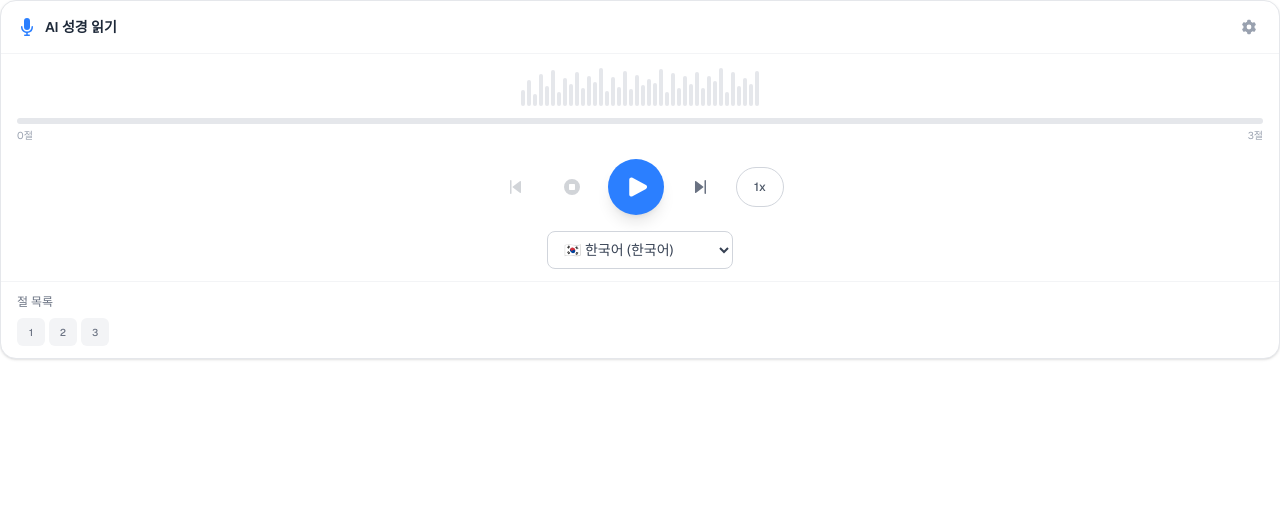
Scenario: EnhancedAudioPlayer › settings panel › opens settings when settings button is clicked
Click the button named "설정".
click(1249, 27)  # box x1=1235 y1=13 x2=1263 y2=41
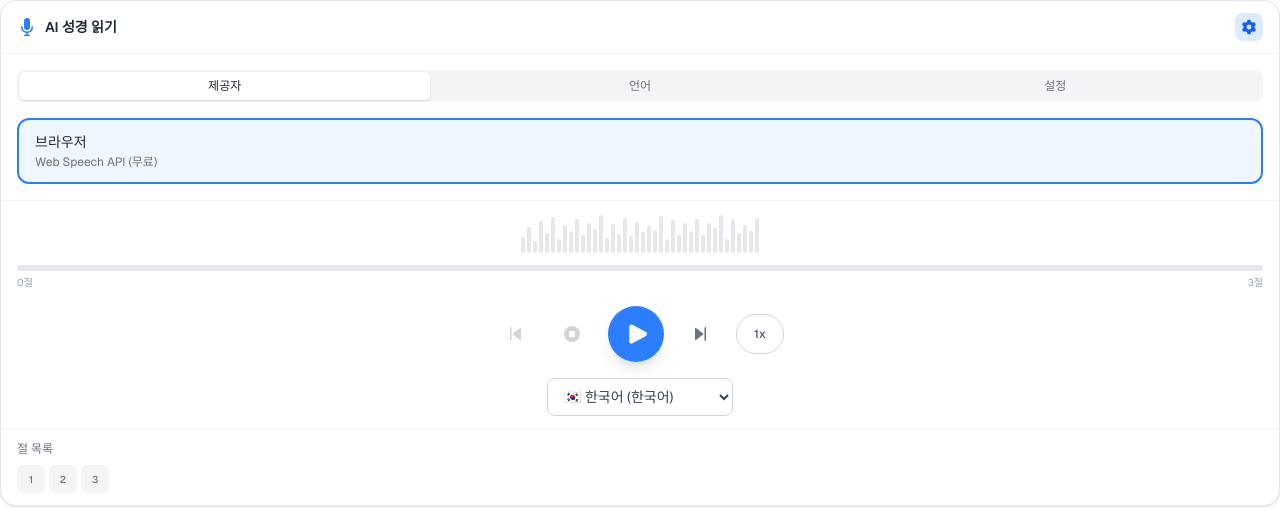
Result: the button "제공자" is shown at x1=19 y1=72 x2=430 y2=100
Result: the button "언어" is shown at x1=434 y1=72 x2=846 y2=100
Result: the button "설정" is shown at x1=850 y1=72 x2=1261 y2=100
